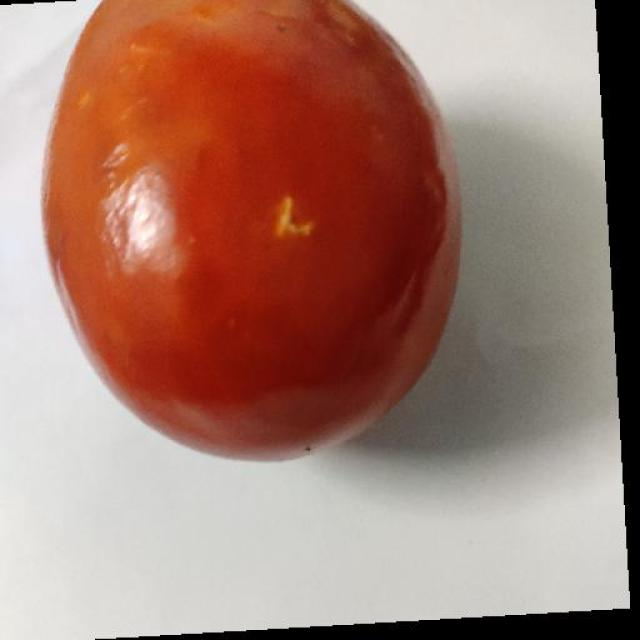Stale_tomato: (32, 0, 508, 469)
